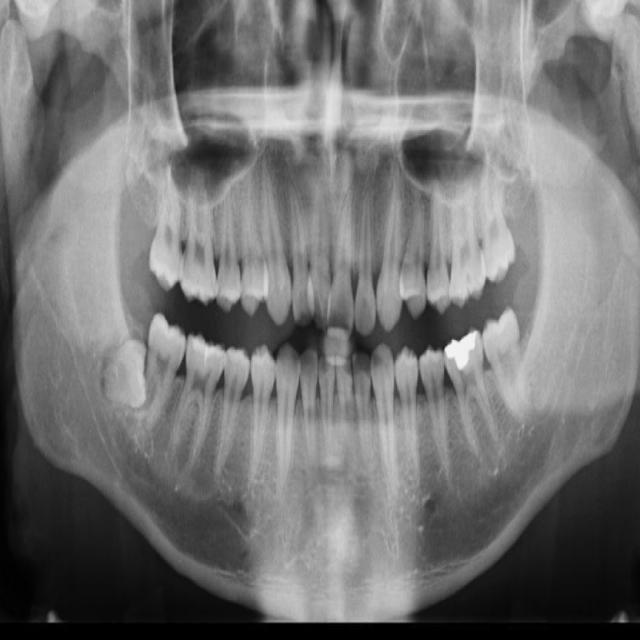Filling: (443, 329, 485, 375), (185, 331, 227, 374)
impacted tooth: (91, 342, 145, 407)
